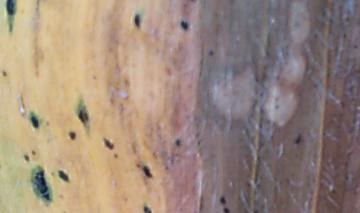tarspot: (34, 170, 50, 201), (77, 108, 89, 123), (58, 168, 69, 183), (29, 115, 40, 129), (142, 165, 153, 177), (7, 1, 16, 15), (104, 137, 114, 149), (134, 13, 142, 27), (180, 20, 190, 30), (142, 204, 153, 213), (68, 131, 77, 140), (23, 154, 30, 162), (174, 139, 182, 146), (2, 70, 8, 78), (221, 197, 227, 205), (31, 149, 37, 156), (209, 49, 215, 56), (135, 162, 142, 168), (296, 138, 302, 144), (224, 207, 230, 213), (113, 153, 119, 158)
